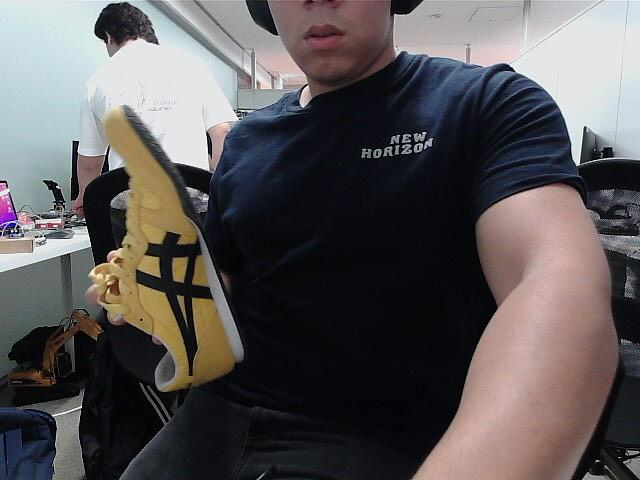Shoes: (91, 106, 252, 396)
